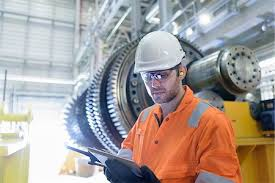Person_wearing_helmet: (129, 27, 190, 84)
